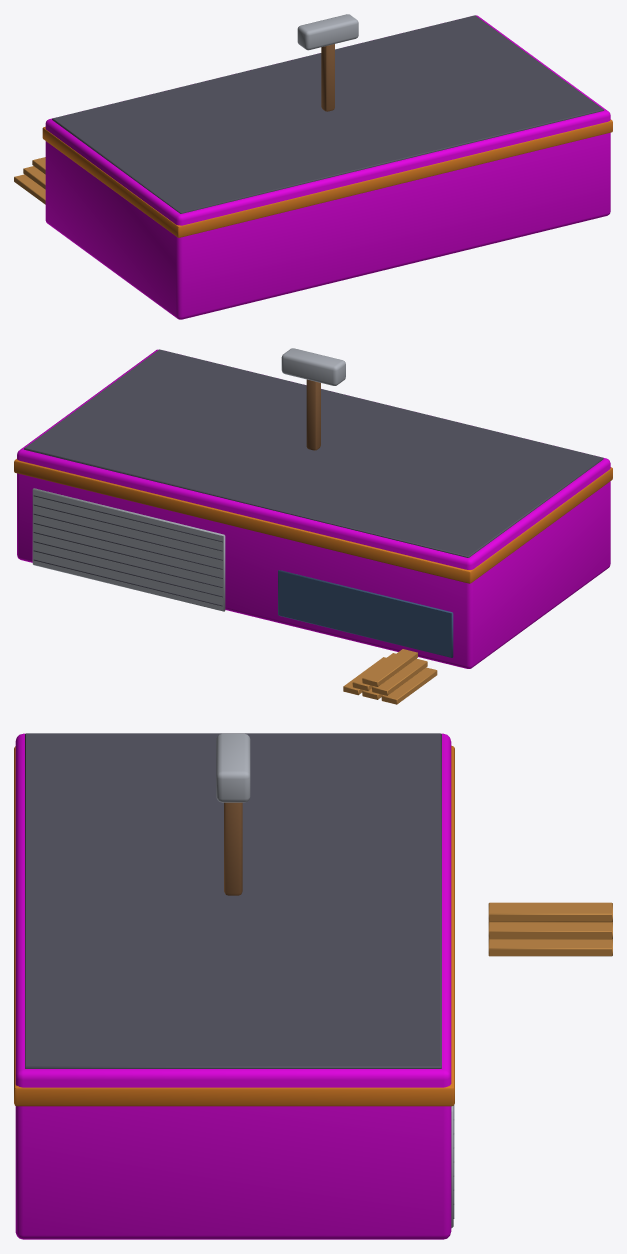
File: Poi_Hardware.fbx
3 views of the same model, one above another, from view 1: azimuth 30°, elevation 25°; view 2: azimuth 150°, elevation 25°; view 3: azimuth 270°, elevation 25° (orthographic). The views are drawn at different scales.
Parts seen in each view (by area): view 1: Poi_Hardware; view 2: Poi_Hardware; view 3: Poi_Hardware.
Boxes of the visible parts, <box> form: Poi_Hardware: <box>14,14,612,319</box>; Poi_Hardware: <box>14,348,612,704</box>; Poi_Hardware: <box>14,733,612,1239</box>.
Size of the model in its own units: 26.1 by 11.3 by 19.25.
